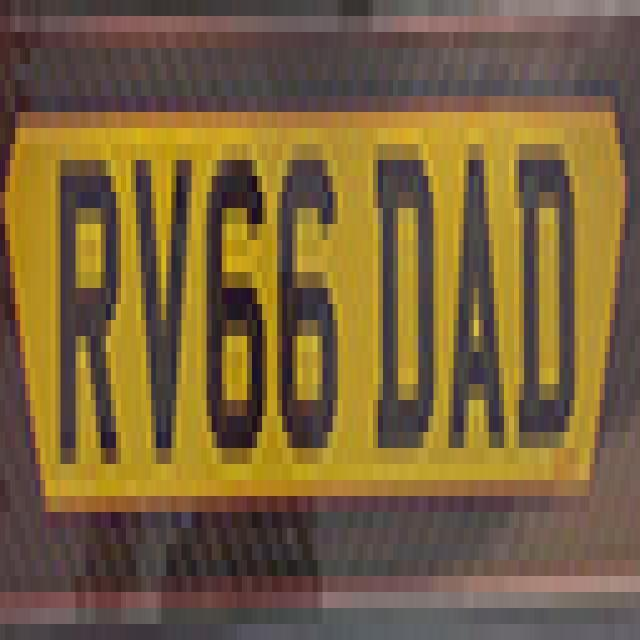6: (278, 154, 351, 458), (204, 150, 275, 454)
A: (448, 148, 507, 471)
D: (517, 122, 588, 470), (370, 144, 438, 468)
R: (50, 134, 122, 474)
V: (129, 144, 194, 481)
